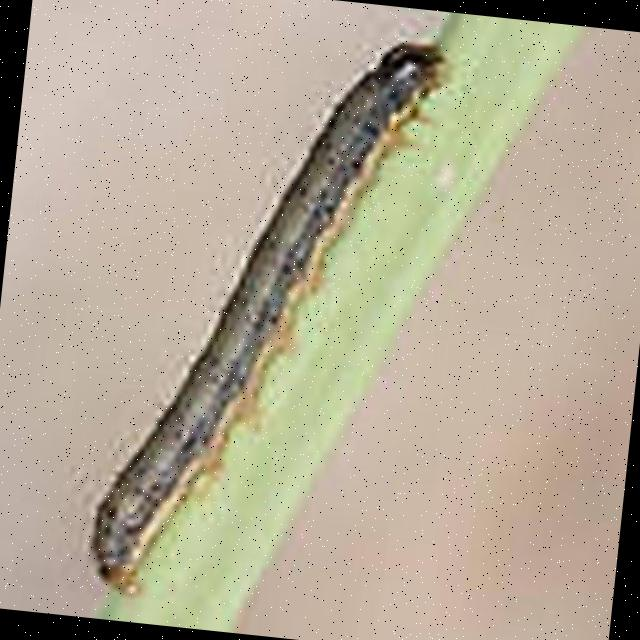worm: (83, 11, 451, 624)
